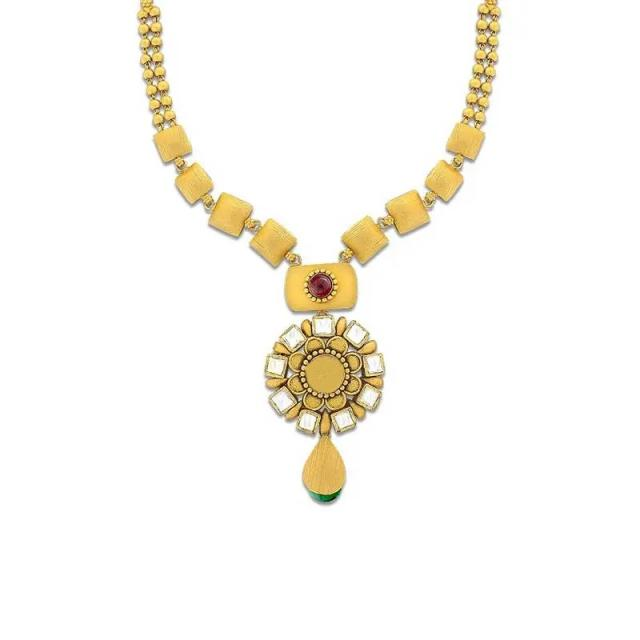missing gem: (306, 356, 344, 392)
